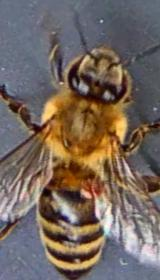varroa_mite: (76, 179, 104, 200)
